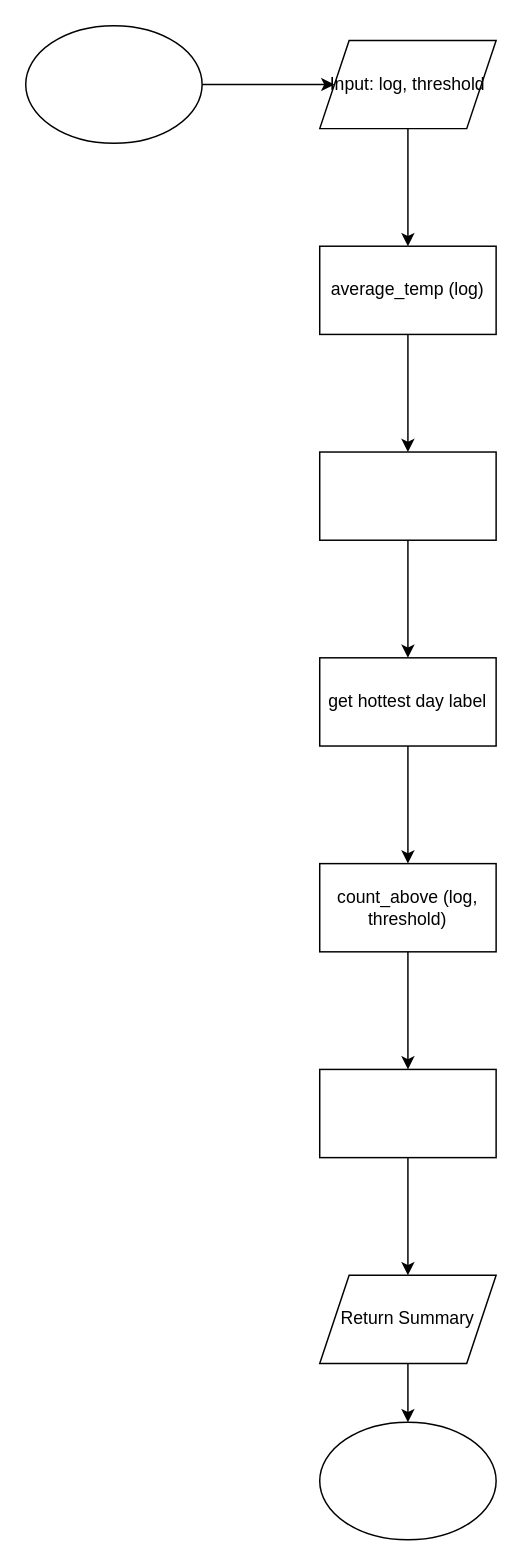
The diagram is 522 pixels wide and 1566 high, and some of its shapes have lost their labels. Each missing label, with the box of its shape:
Create summary: (318, 1068, 496, 1158)
hottest_day (log): (318, 451, 496, 540)
Start: (24, 24, 202, 143)
